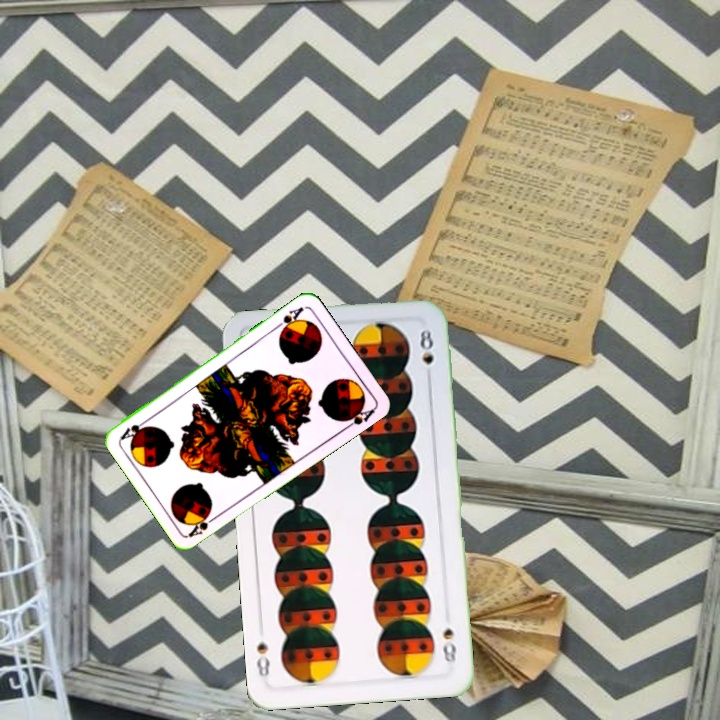S8: (438, 623, 459, 665)
SA: (271, 302, 306, 335), (185, 508, 221, 540)
